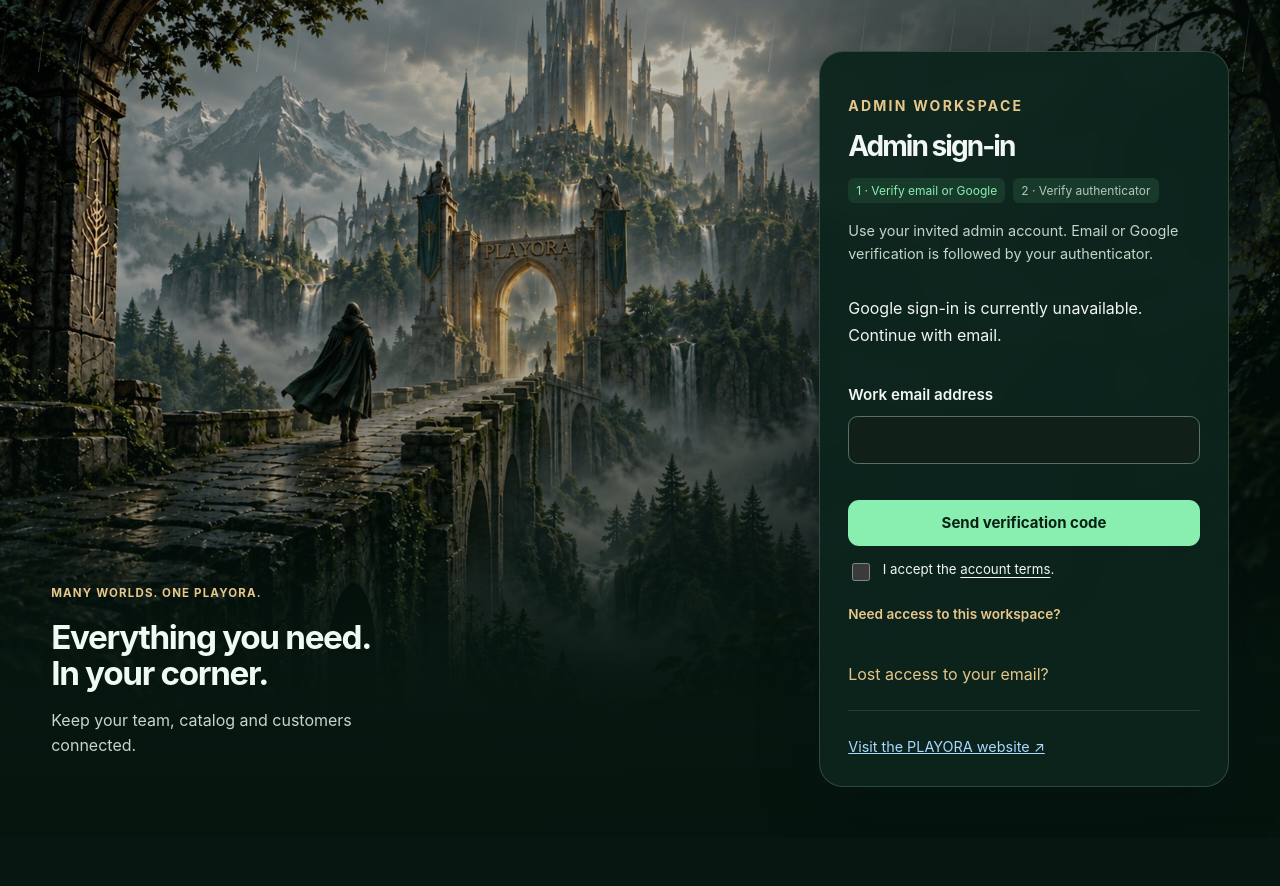
shows server timing and resends in the admin realm without signing in
The width and height of the screenshot is (1280, 886).
Type "same@example.test" into the field labelled "Work email address" at coordinates (1024, 440), box [848,416,1200,464]
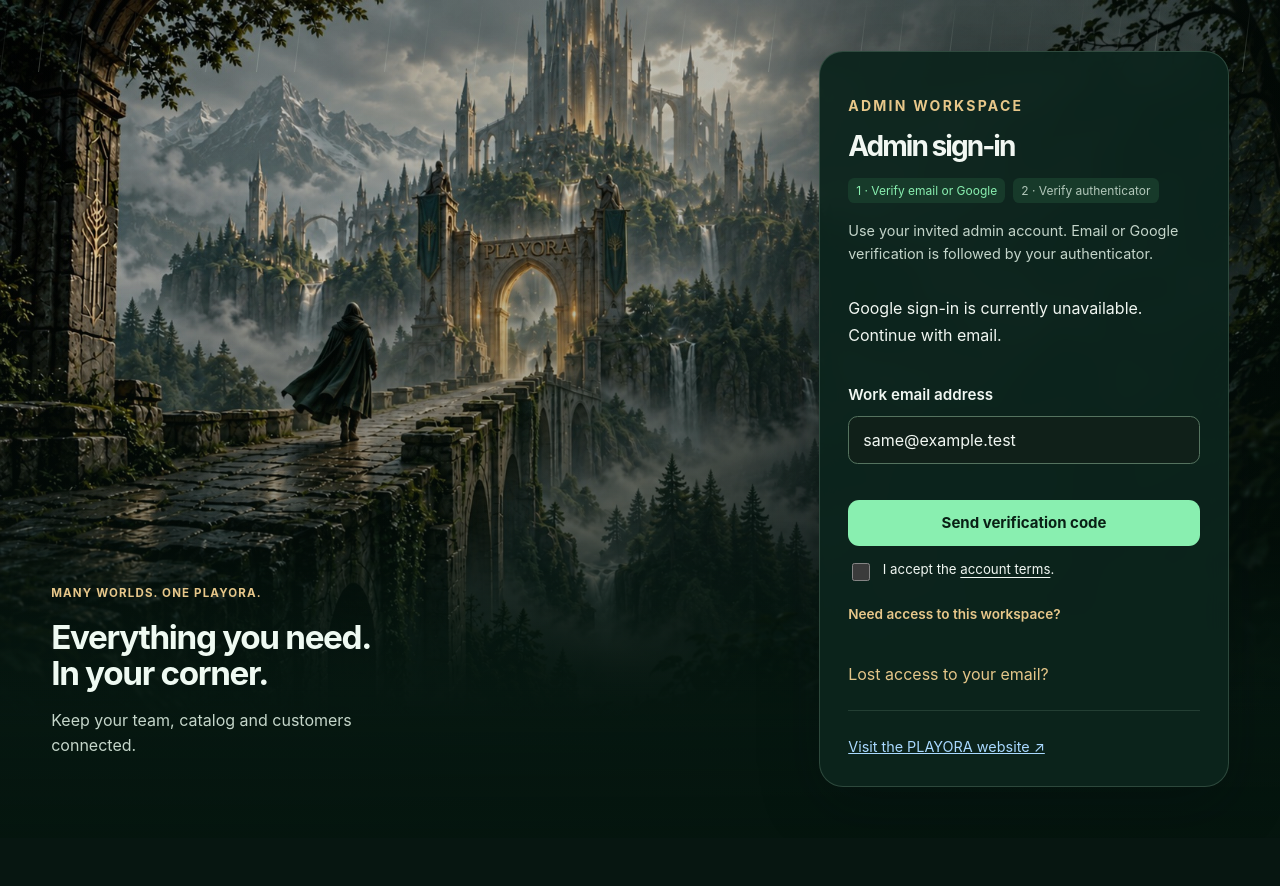
Click the checkbox at coordinates (861, 572), box [852,563,870,581]
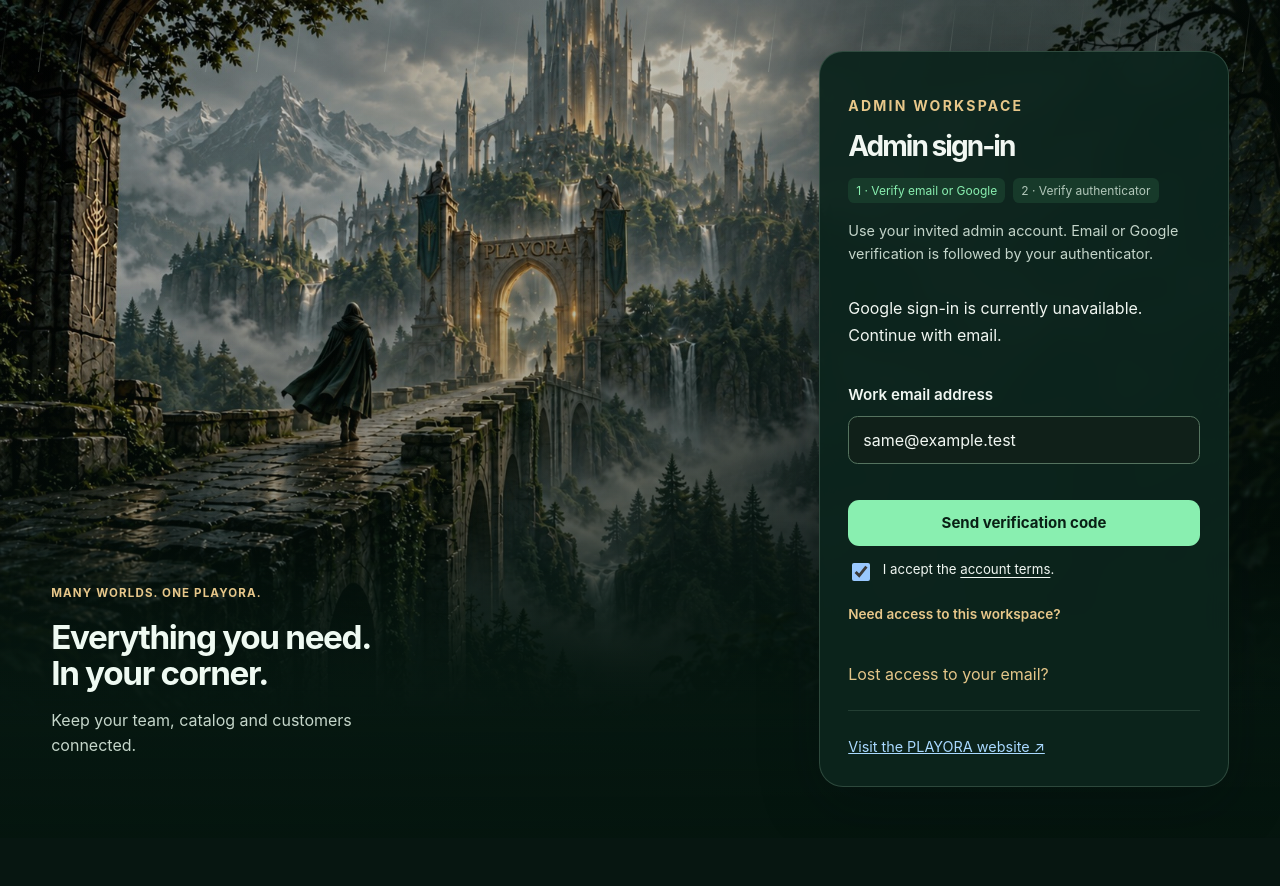
Submit the form "Send verification code", box [848,384,1200,546]
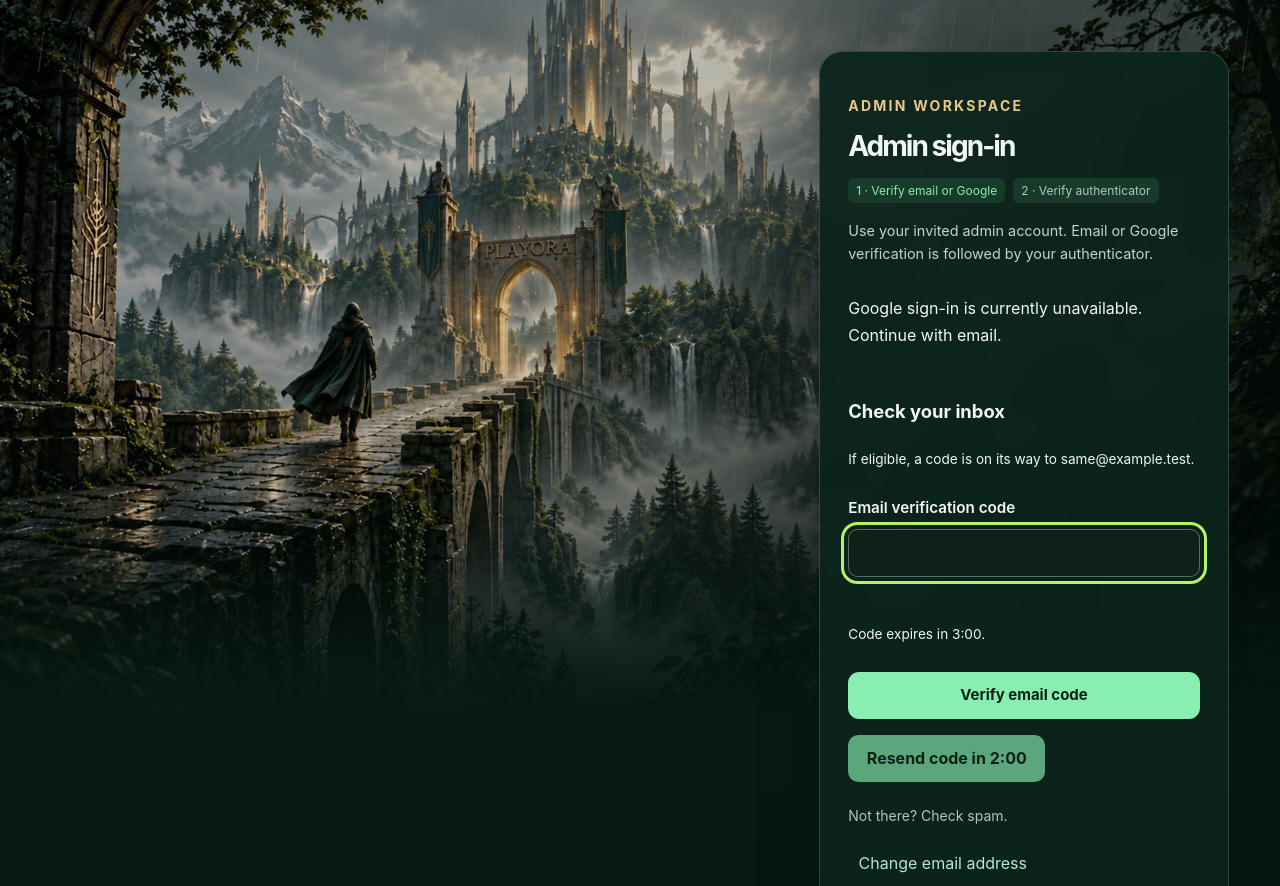
Check: the button "Resend code in 2:00" is disabled, box [848,735,1045,782]
Check: the button "Verify email code" is enabled, box [848,672,1200,719]
Check: the text "Code expires in 3:00." is shown, box [848,626,985,642]
Type "123456" into the field labelled "Email verification code" at coordinates (1024, 553), box [848,529,1200,577]
Wait 120000 ms
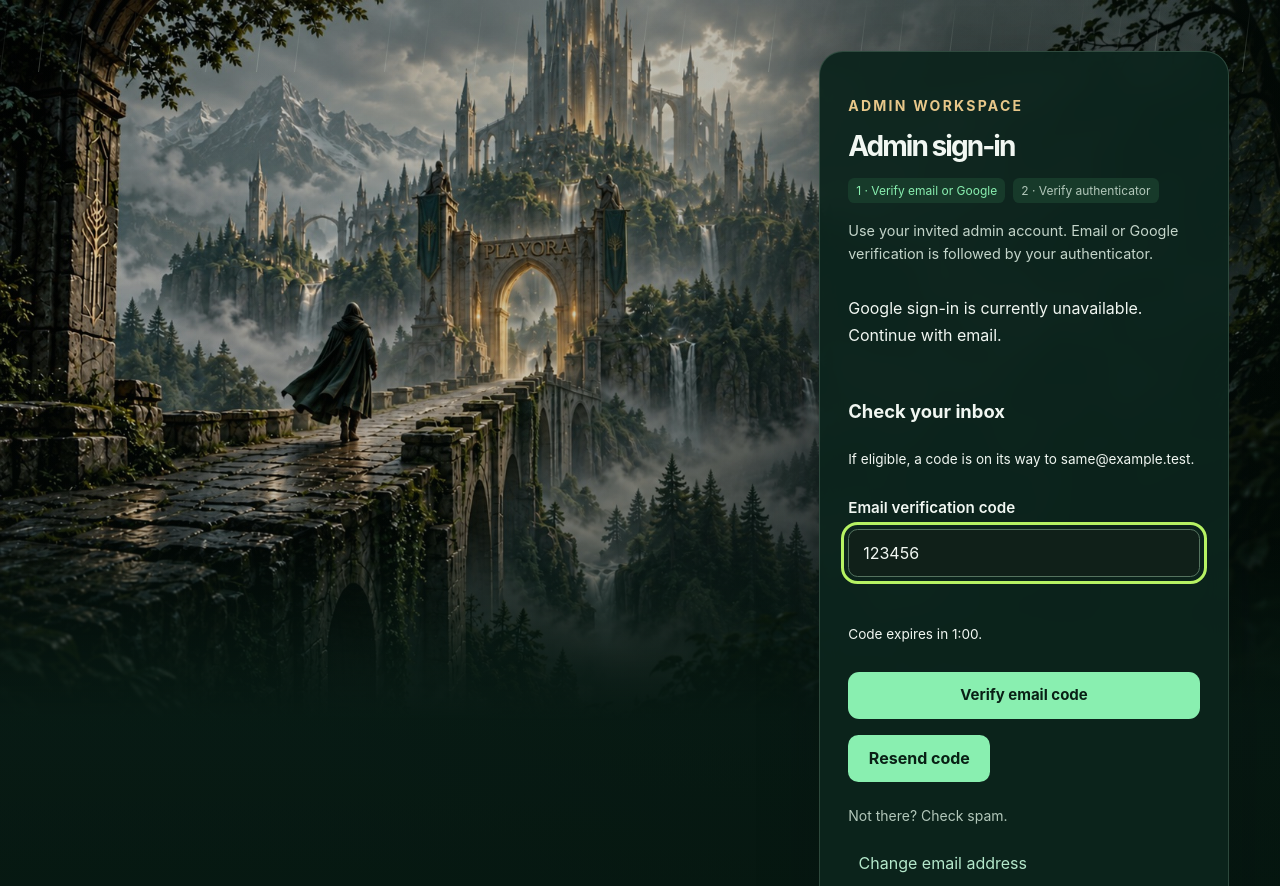
Click the button "Resend code" at coordinates (919, 758), box [848,735,990,782]
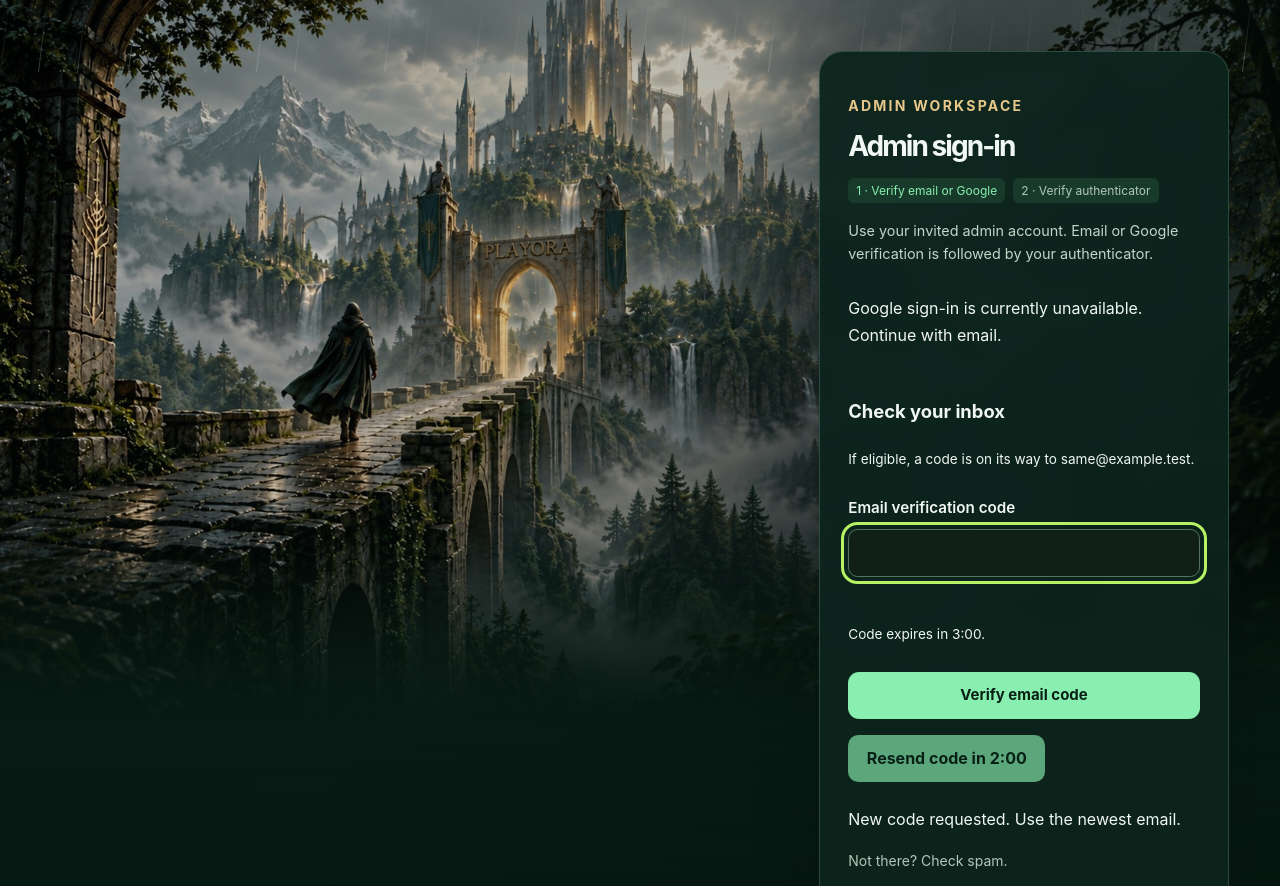
Check: the field labelled "Email verification code" is empty, box [848,529,1200,577]
Check: the button "Resend code in 2:00" is disabled, box [848,735,1045,782]
Check: the text "New code requested. Use the newest email." is shown, box [848,806,1200,833]
